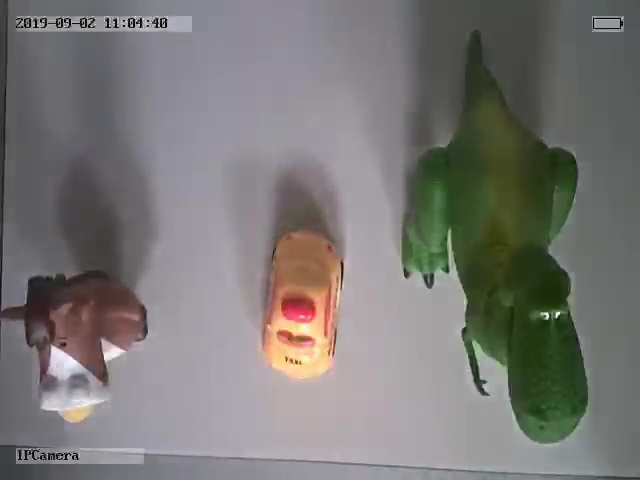car: (260, 223, 346, 381)
horse: (5, 270, 150, 424)
rex: (401, 54, 590, 446)
